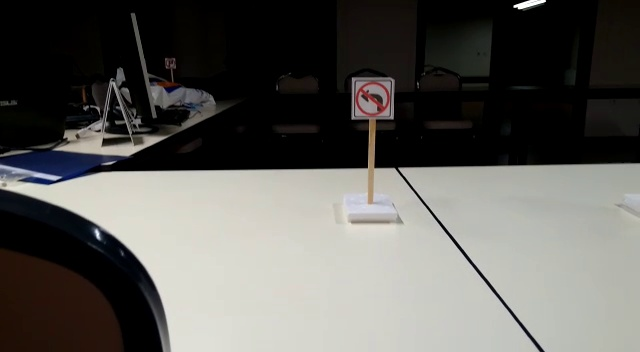sola_donulmez: (352, 78, 396, 120)
